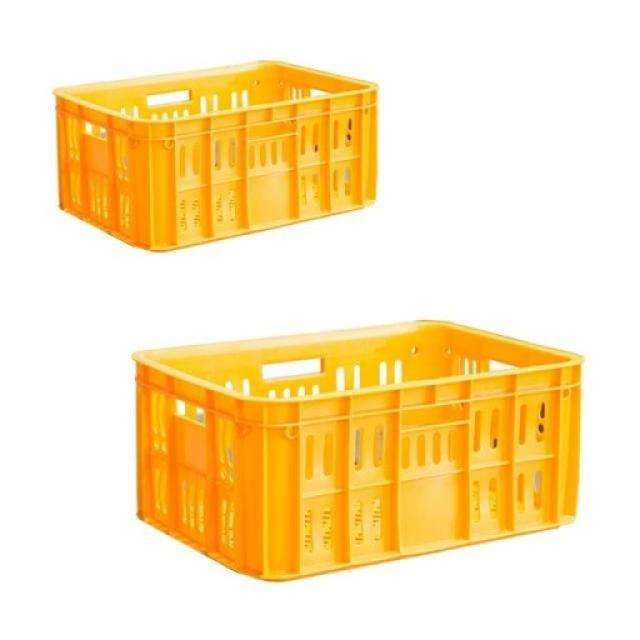basket: (133, 317, 591, 585), (46, 48, 393, 261)
